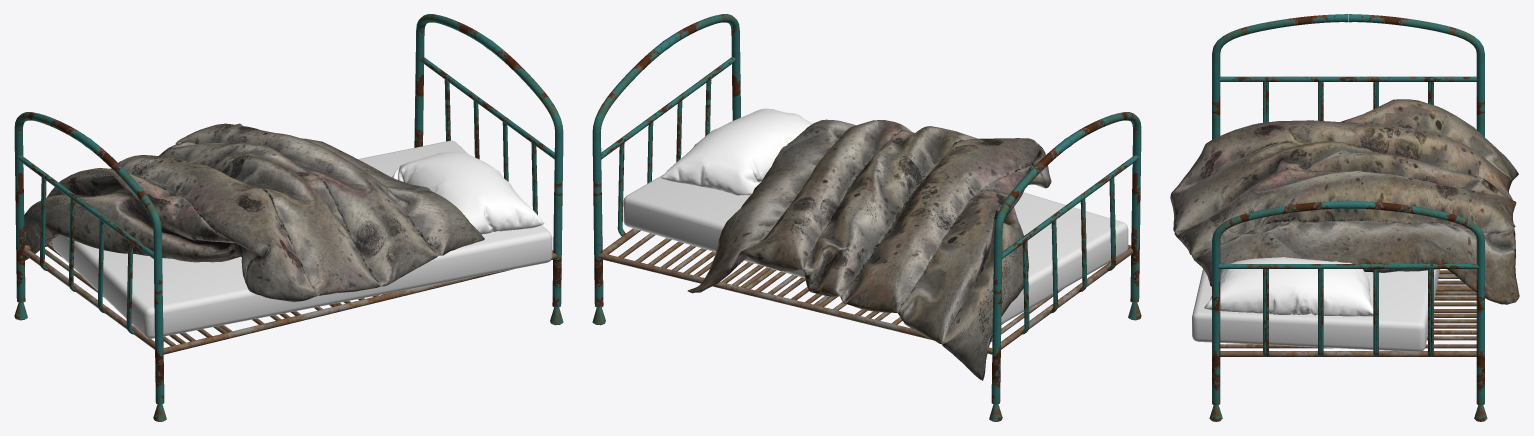
File: SM_GirlsBed_01.fbx
3 renders of one model, left to right at view 1: azimuth 30°, elevation 25°; view 2: azimuth 150°, elevation 25°; view 3: azimuth 270°, elevation 25°, orthographic. The views are drawn at different scales.
Visible parts, largest first — view 1: SM_bad_pillow; view 2: SM_bad_pillow; view 3: SM_bad_pillow.
Part boxes in pixels (<box>): SM_bad_pillow: <box>14,14,563,421</box>; SM_bad_pillow: <box>592,14,1141,421</box>; SM_bad_pillow: <box>1170,14,1519,421</box>.
Bounding box in the file's own units: 2.76 × 2.14 × 1.49.
